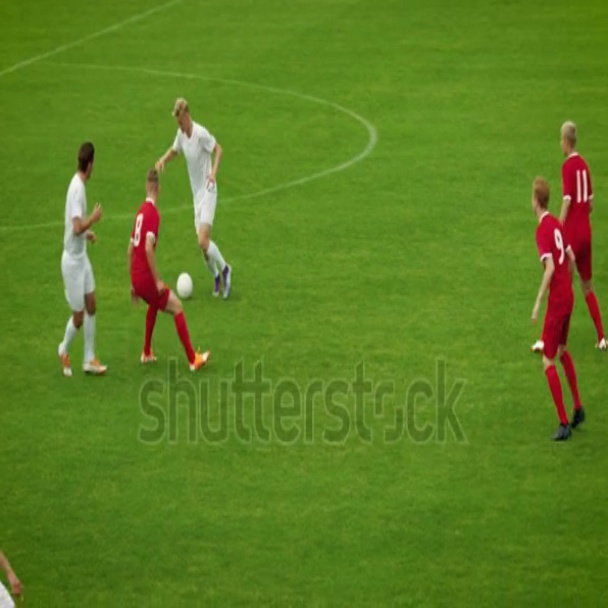ball: (178, 270, 196, 306)
